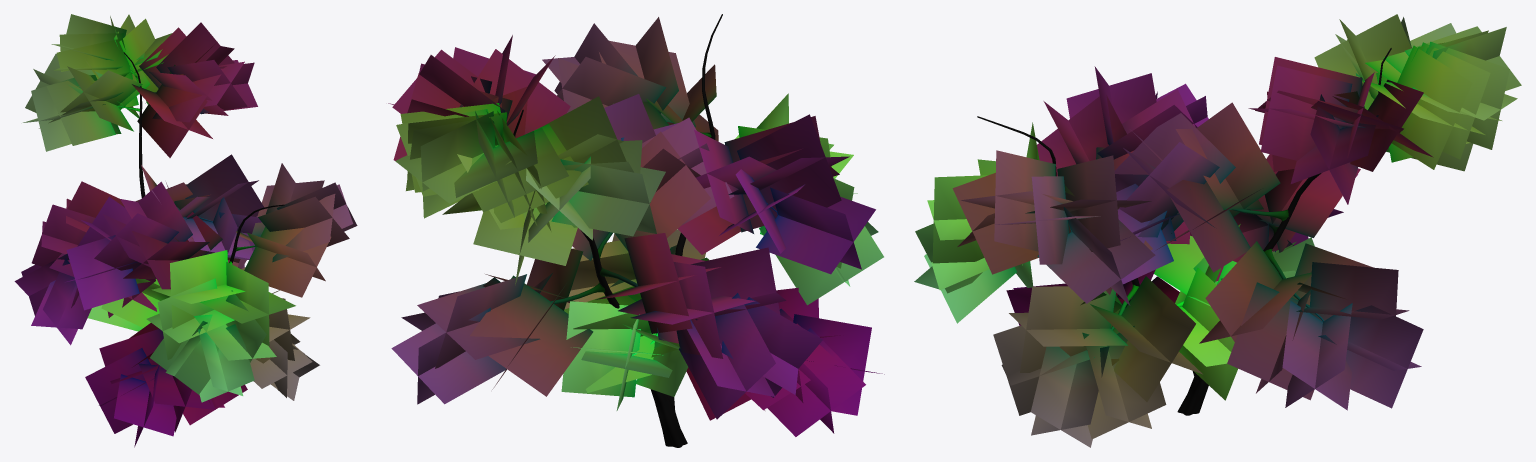
The model's file is URP_P14_Tree_9_LOD_0.fbx.
3 renders of one model, left to right at view 1: azimuth 30°, elevation 25°; view 2: azimuth 150°, elevation 25°; view 3: azimuth 270°, elevation 25°, orthographic. The views are drawn at different scales.
Parts seen in each view (by area): view 1: Tree_9_LOD_0; view 2: Tree_9_LOD_0; view 3: Tree_9_LOD_0.
Part boxes in pixels (<box>): Tree_9_LOD_0: <box>14,14,357,447</box>; Tree_9_LOD_0: <box>388,14,884,447</box>; Tree_9_LOD_0: <box>914,14,1521,447</box>.
Size of the model in its own units: 404 by 456 by 613.
